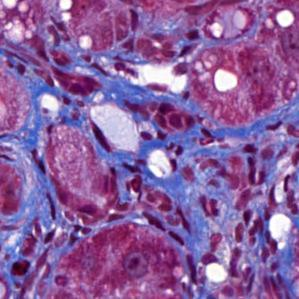inflammation: (230, 206, 268, 248), (238, 143, 271, 189), (173, 25, 207, 63), (7, 256, 38, 281)
